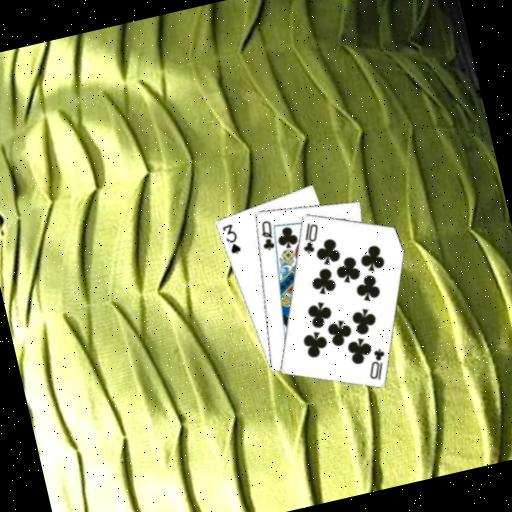10C: (361, 344, 392, 383), (294, 218, 325, 256)
3S: (218, 220, 243, 257)
QC: (254, 217, 278, 254)
